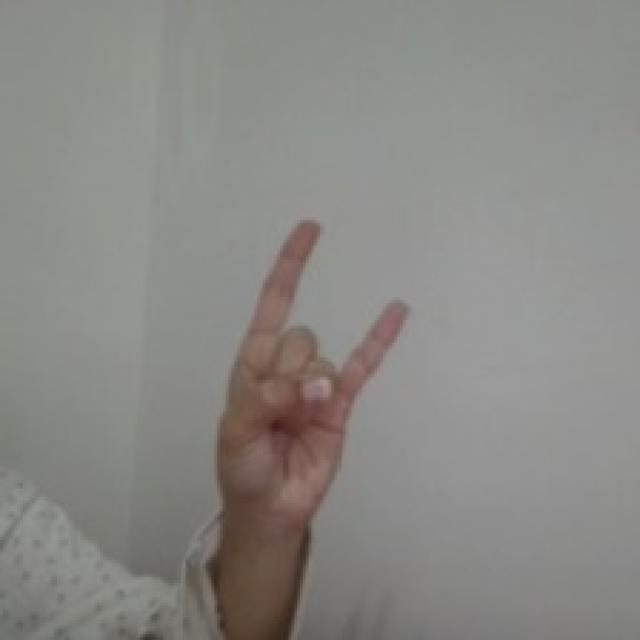No: (203, 212, 418, 526)
